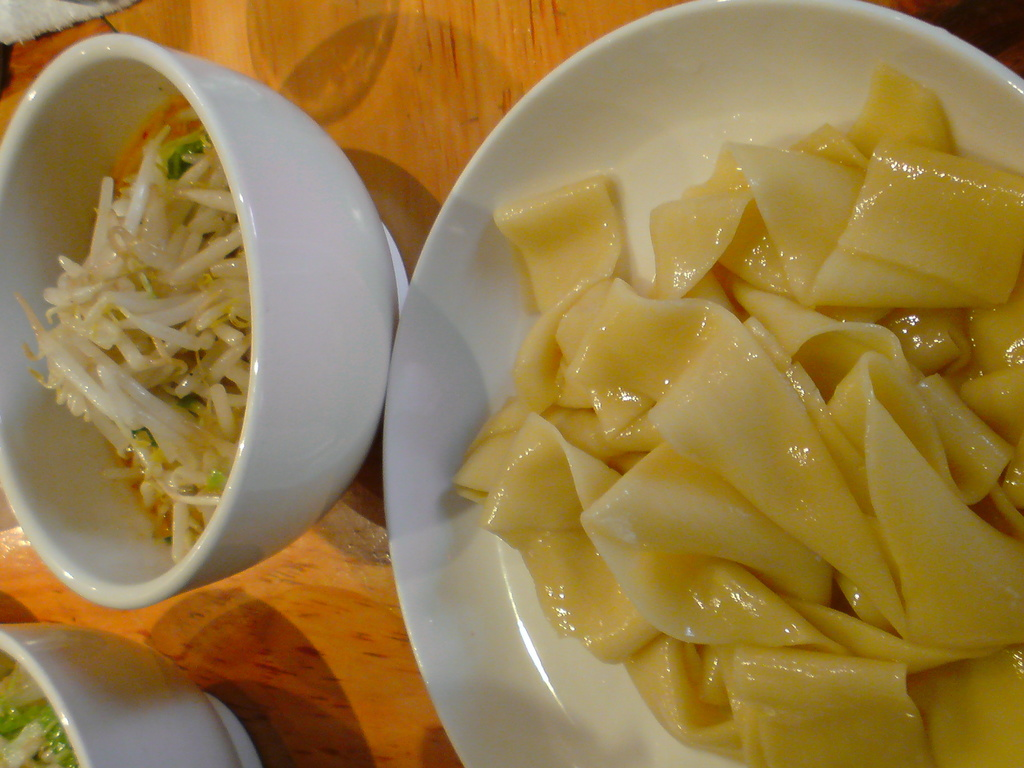pasta: (433, 8, 1024, 745)
